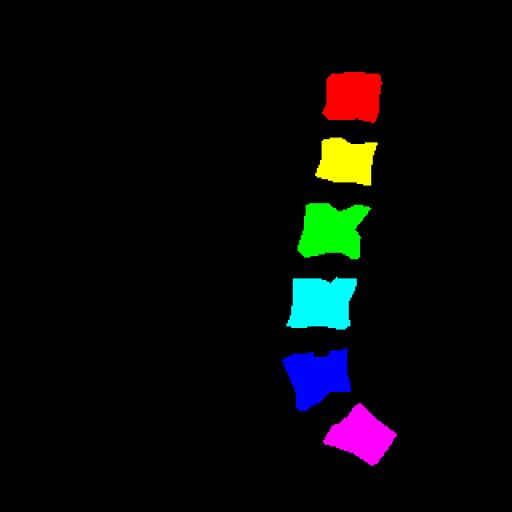L1: (322, 74, 380, 122)
L2: (316, 135, 376, 186)
L3: (298, 203, 371, 258)
L4: (287, 277, 357, 331)
L5: (282, 348, 351, 411)
S1: (323, 403, 397, 466)
